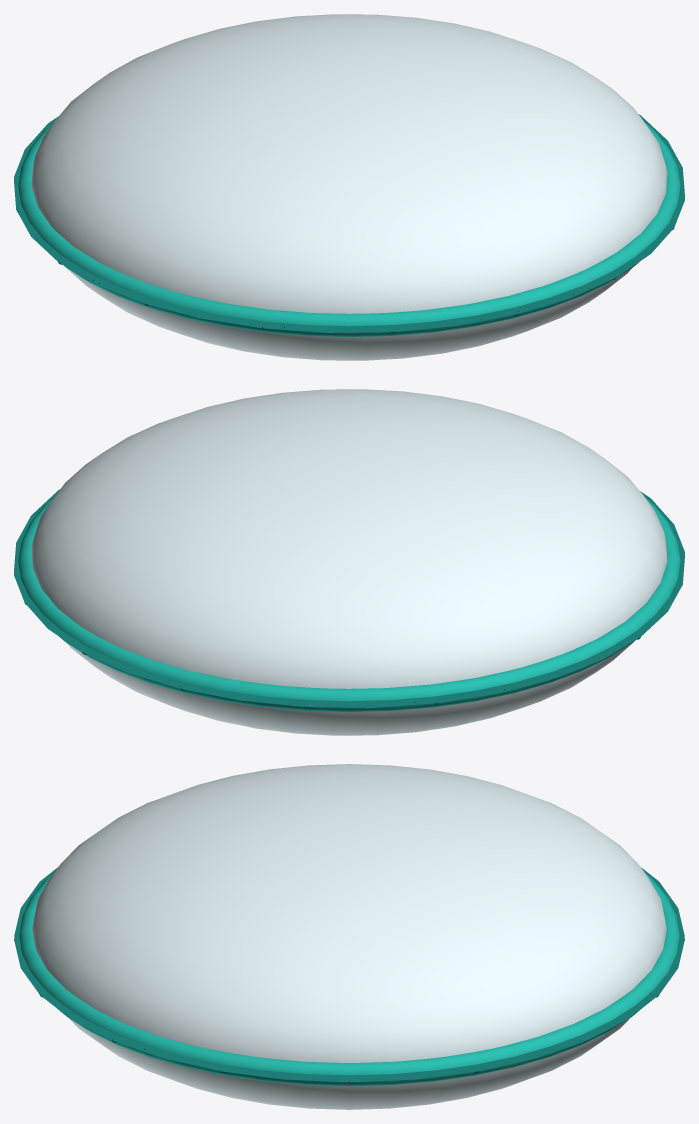
The model's file is WorkshopDome.fbx.
3 views of the same model, one above another, from view 1: azimuth 30°, elevation 25°; view 2: azimuth 150°, elevation 25°; view 3: azimuth 270°, elevation 25° (orthographic).
Parts seen in each view (by area): view 1: WorkshopDome mesh; view 2: WorkshopDome mesh; view 3: WorkshopDome mesh.
Part boxes in pixels (x1,y1,x2,y2): WorkshopDome mesh: (14,14,684,360); WorkshopDome mesh: (14,389,684,735); WorkshopDome mesh: (14,764,684,1109).
Size of the model in its own units: 2.52 by 0.9 by 2.52.
